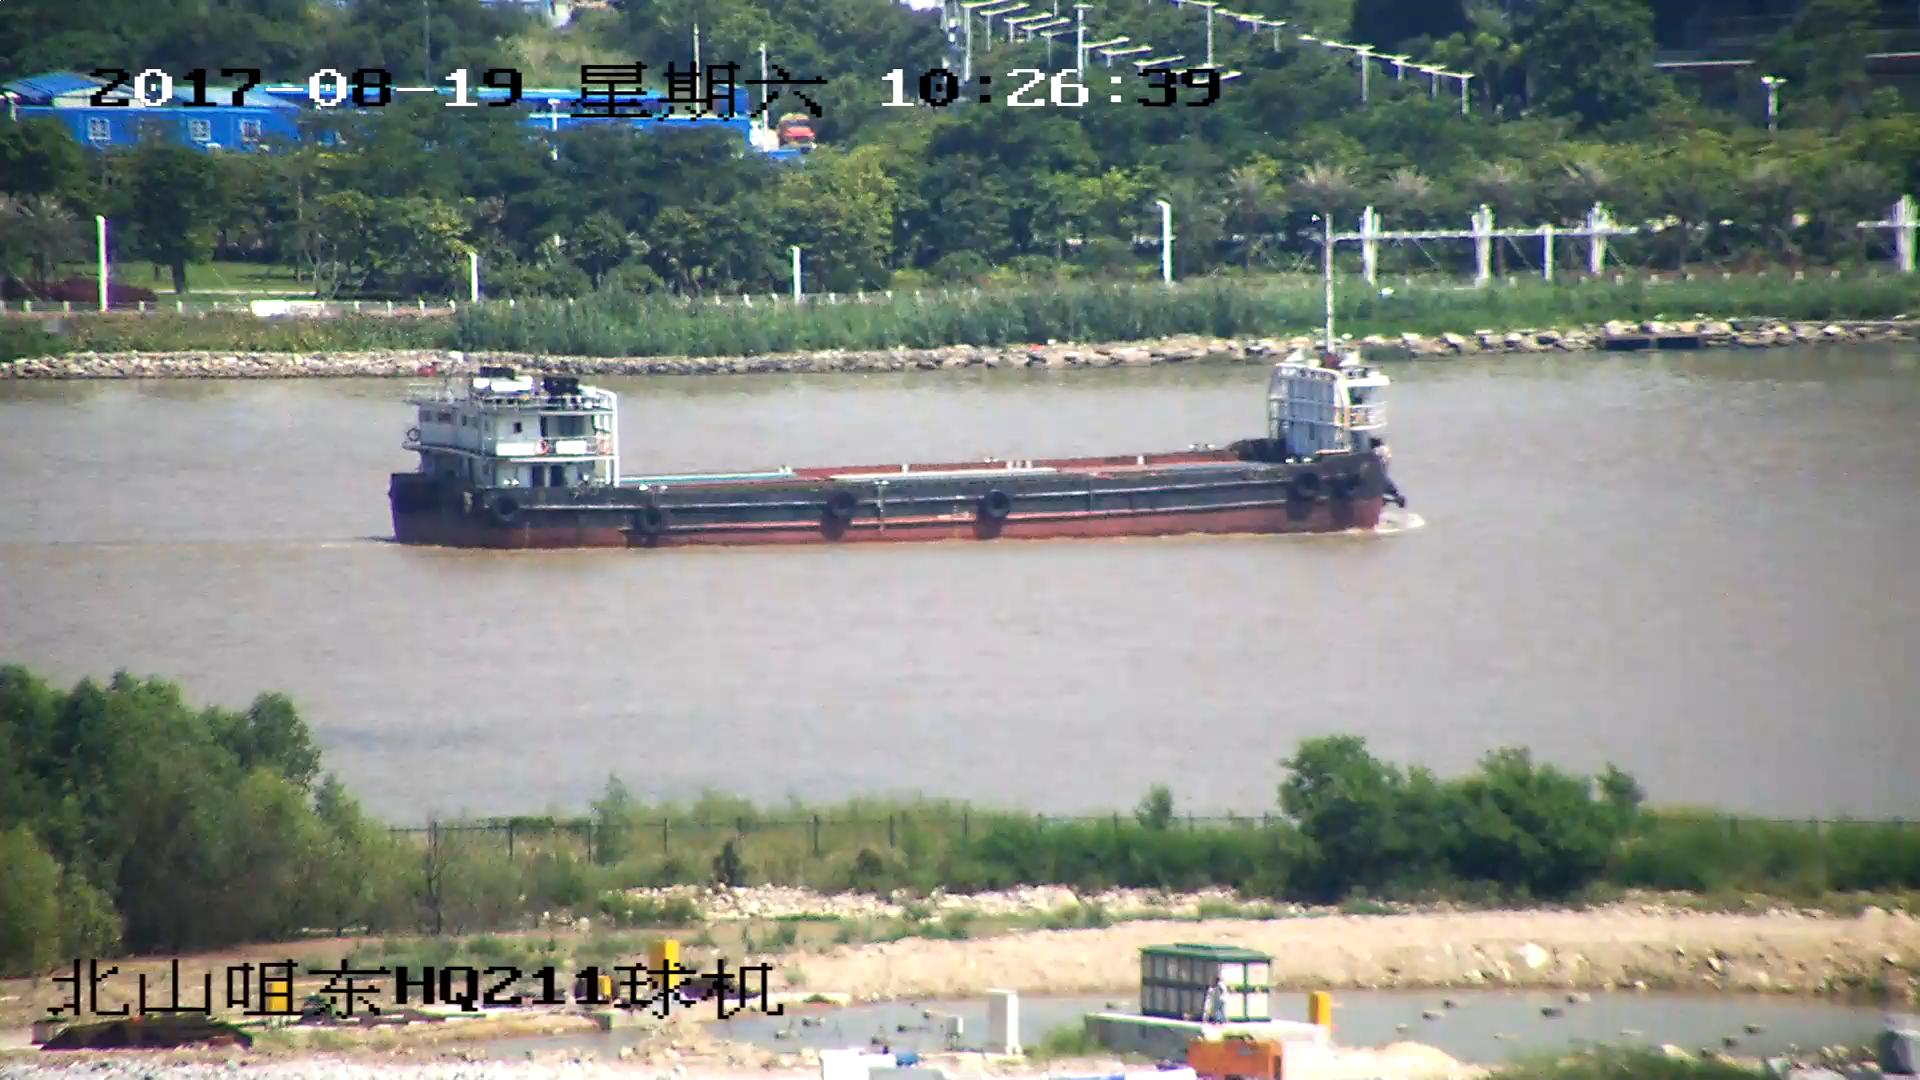general cargo ship: (389, 368, 1400, 551)
